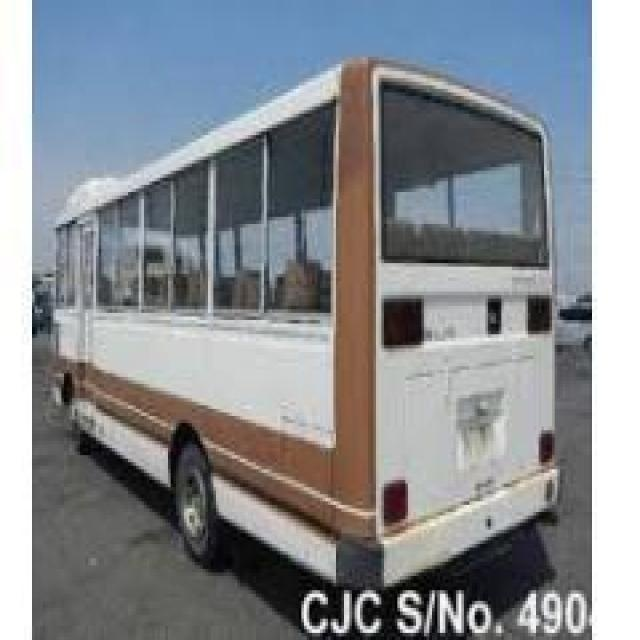Bus: (48, 50, 568, 633)
